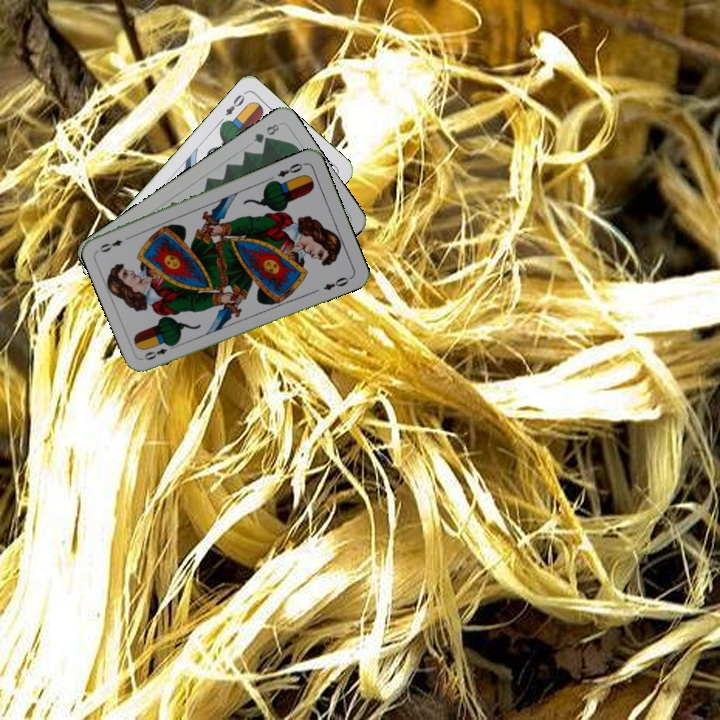EO: (140, 340, 178, 363), (273, 159, 308, 180), (221, 90, 247, 118)
G8: (249, 120, 282, 146)
